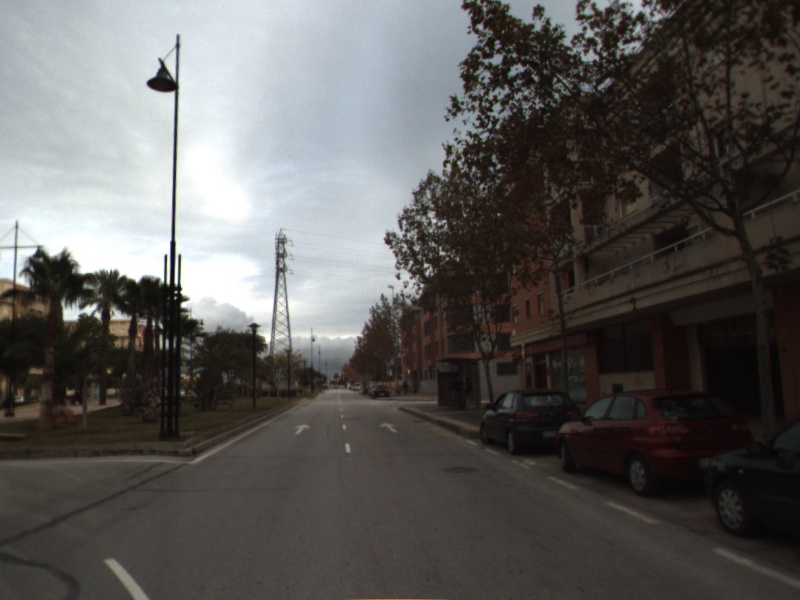STRAIGHT: (292, 422, 313, 437), (378, 420, 399, 434)
